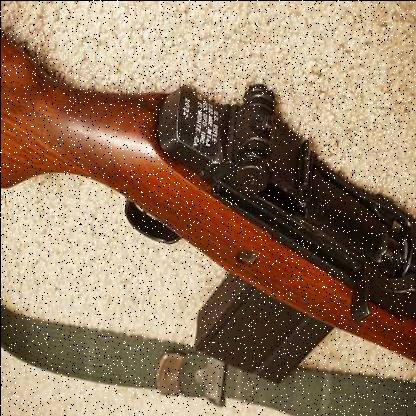rifle: (71, 47, 416, 388)
